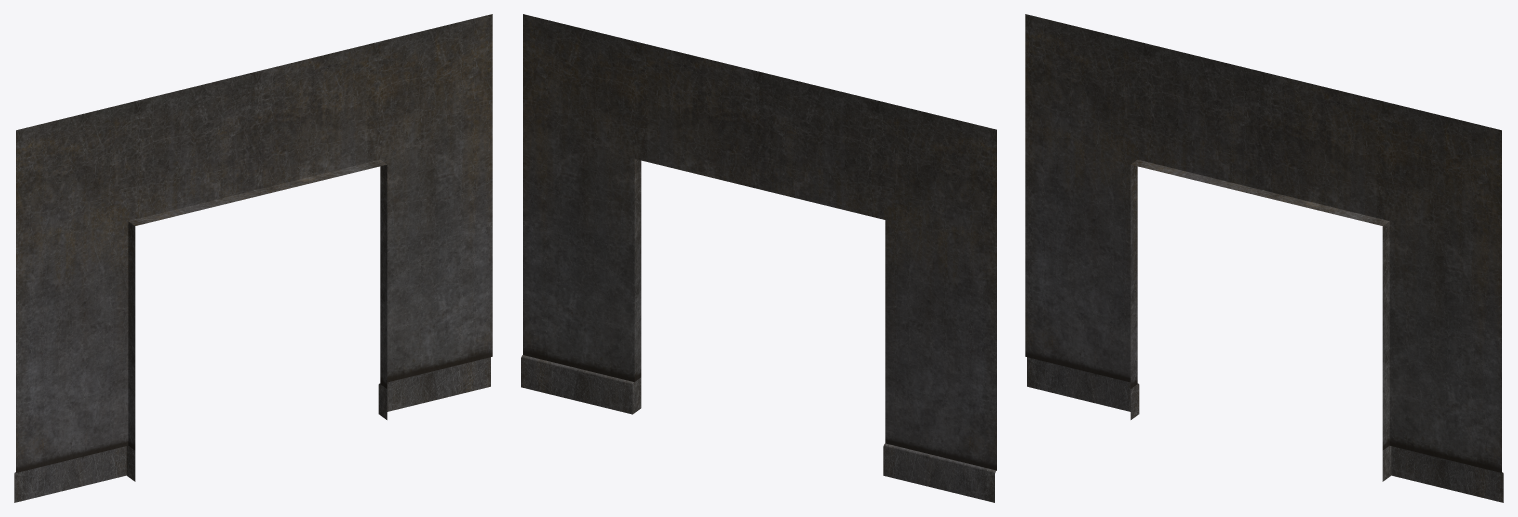
File: Basement_Corridor_D_Wall_4m_Door.glb
3 views of the same model, side by side, from view 1: azimuth 30°, elevation 25°; view 2: azimuth 150°, elevation 25°; view 3: azimuth 330°, elevation 25° (orthographic).
Parts seen in each view (by area): view 1: Basement_Corridor_D_Wall_4m_Door; view 2: Basement_Corridor_D_Wall_4m_Door; view 3: Basement_Corridor_D_Wall_4m_Door.
Part boxes in pixels (bbox=[...]): Basement_Corridor_D_Wall_4m_Door: bbox=[14, 14, 492, 502]; Basement_Corridor_D_Wall_4m_Door: bbox=[521, 14, 996, 502]; Basement_Corridor_D_Wall_4m_Door: bbox=[1025, 14, 1503, 502].
Size of the model in its own units: 4 by 3 by 0.1256.
Materials: 2 (2 with a texture image).
